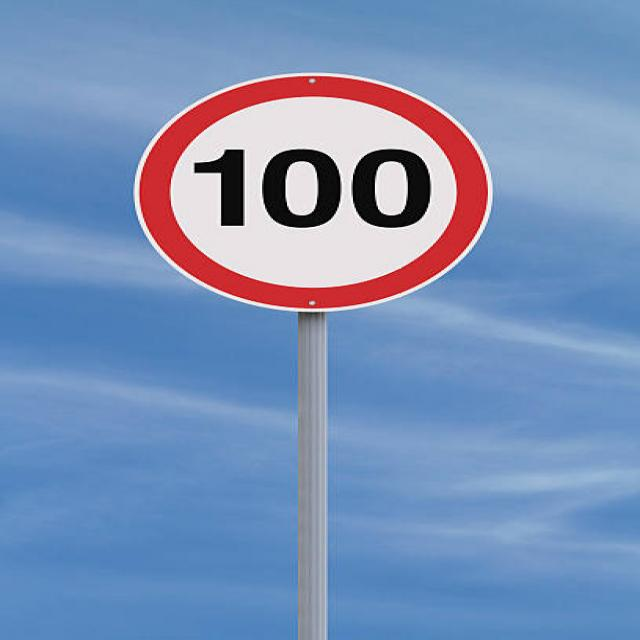speed_limit_100: (130, 63, 504, 323)
